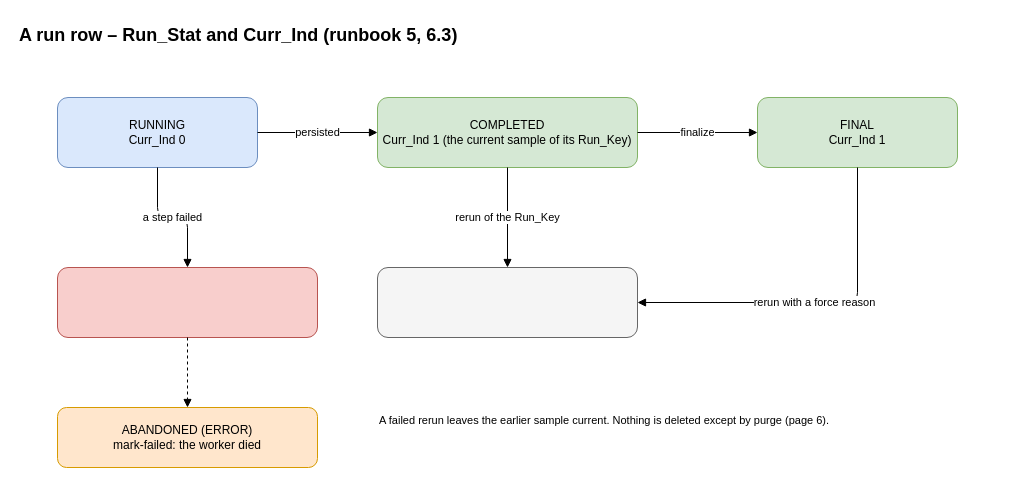
Image size: 1034x485. Some labels were removed from this diagram. Here are the shapes that lost their labels. From the top down, the box of each, then its label:
(56, 266, 318, 338): ERROR Curr_Ind 0 · Error_Ty, Error_Txt
(376, 266, 638, 338): replaced by a rerun Curr_Ind 0 (Run_Stat unchanged)
